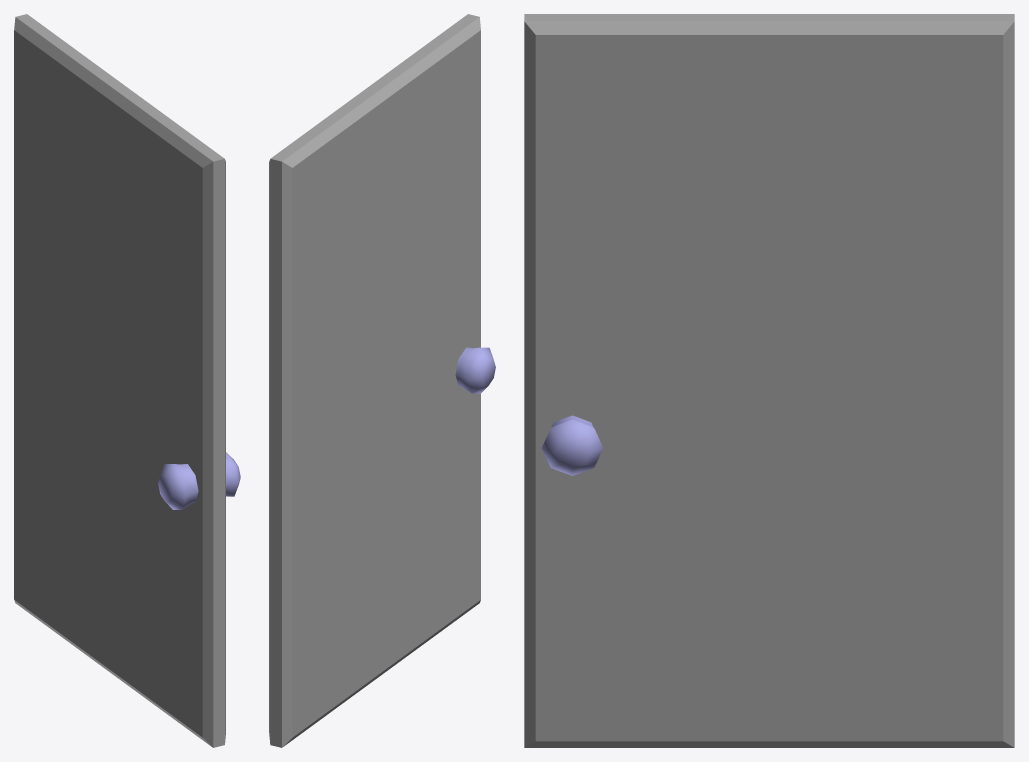
Rendered from Friday_DetectiveDoor.fbx.
3 views of the same model, side by side, from view 1: azimuth 30°, elevation 25°; view 2: azimuth 150°, elevation 25°; view 3: azimuth 270°, elevation 25° (orthographic). The views are drawn at different scales.
Parts seen in each view (by area): view 1: pCube1, pCylinder1; view 2: pCube1, pCylinder1; view 3: pCube1, pCylinder1.
Part boxes in pixels (x1,y1,x2,y2): pCube1: [14, 14, 225, 747]; pCylinder1: [158, 452, 240, 509]; pCube1: [269, 14, 480, 747]; pCylinder1: [455, 347, 495, 393]; pCube1: [524, 14, 1014, 747]; pCylinder1: [541, 415, 603, 475].
Size of the model in its own units: 5.85 by 47.93 by 29.31.
